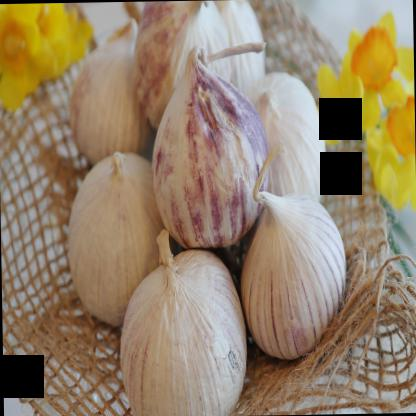garlic: (148, 51, 271, 255), (115, 225, 245, 415), (238, 176, 348, 366), (65, 154, 162, 335), (130, 0, 234, 137), (241, 70, 327, 201), (70, 21, 146, 162)
